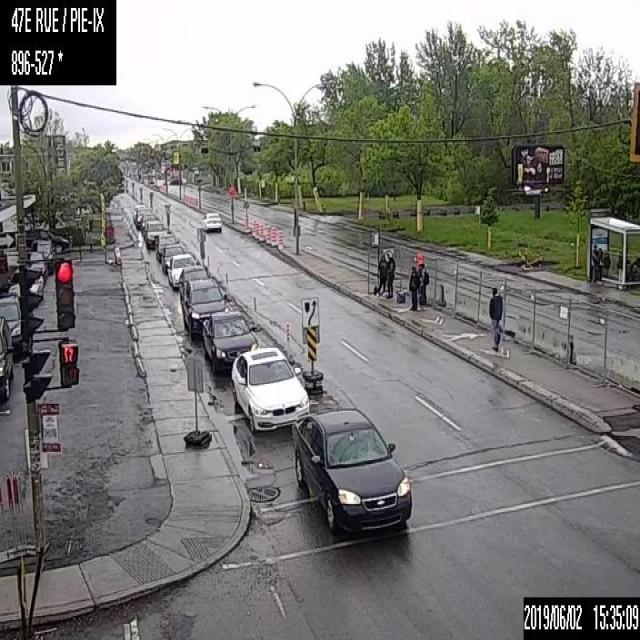construction: (286, 323, 290, 360), (253, 218, 258, 238), (270, 227, 275, 246), (265, 224, 270, 243), (258, 222, 263, 241), (253, 297, 256, 328), (278, 230, 283, 248), (225, 272, 228, 300), (206, 254, 210, 274)
pedestrian: (488, 285, 503, 351), (376, 252, 387, 299), (408, 262, 418, 310), (417, 262, 428, 305), (385, 254, 395, 297), (587, 243, 597, 281), (596, 247, 603, 280), (616, 252, 623, 279), (603, 249, 610, 276)
vehicle: (291, 407, 411, 536), (231, 348, 310, 436), (200, 309, 258, 372), (180, 279, 228, 339), (0, 294, 22, 361), (167, 251, 199, 291), (0, 313, 14, 400), (7, 267, 42, 300), (23, 228, 69, 252), (158, 242, 186, 271), (32, 238, 54, 272), (26, 251, 46, 285), (146, 220, 168, 248), (156, 233, 178, 260), (134, 206, 151, 229), (141, 212, 158, 235), (202, 210, 221, 230), (132, 202, 148, 220)
